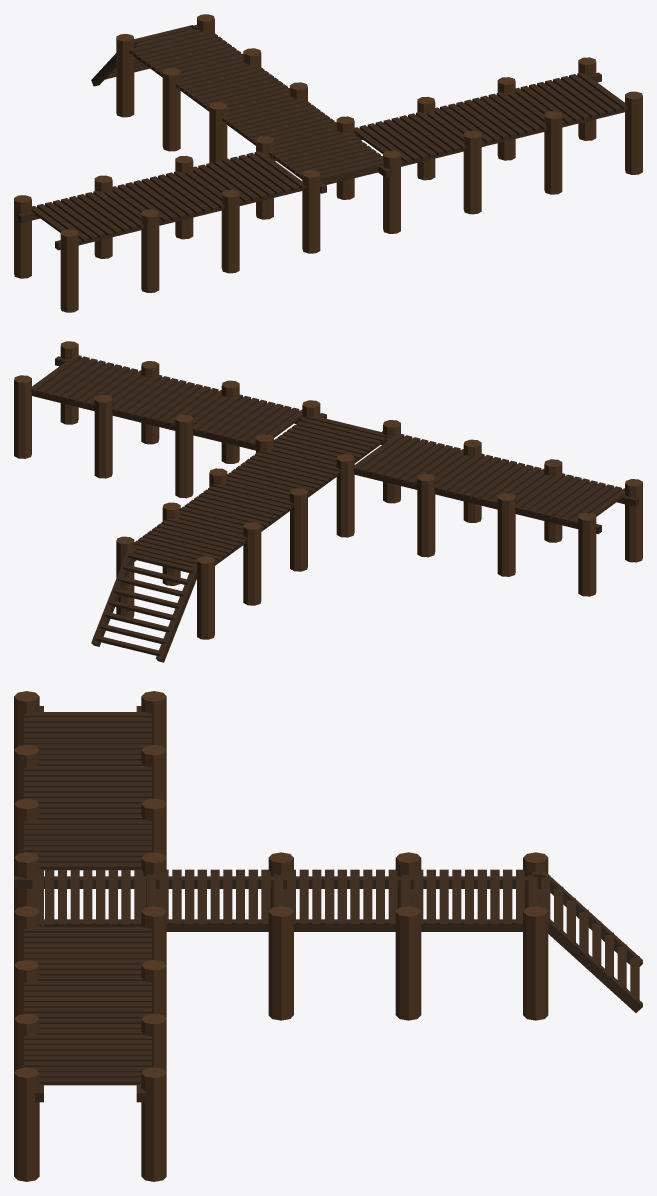
The model's file is Docks.fbx.
The picture shows the model from 3 angles, top to bottom: view 1: azimuth 30°, elevation 25°; view 2: azimuth 150°, elevation 25°; view 3: azimuth 270°, elevation 25°; orthographic projection. The views are drawn at different scales.
Visible parts, largest first — view 1: Planks, Pillars; view 2: Planks, Pillars, Planks.011, Planks.012; view 3: Planks, Pillars, Planks.012, Planks.011.
Part boxes in pixels (bbox=[...]): Planks: bbox=[18, 30, 627, 250]; Pillars: bbox=[14, 14, 642, 312]; Planks: bbox=[31, 355, 638, 579]; Pillars: bbox=[14, 341, 642, 639]; Planks.011: bbox=[155, 563, 197, 662]; Planks.012: bbox=[91, 548, 137, 646]; Planks: bbox=[14, 706, 541, 1102]; Pillars: bbox=[14, 691, 548, 1181]; Planks.012: bbox=[548, 919, 642, 1012]; Planks.011: bbox=[532, 871, 642, 966].
Size of the model in its own units: 7203 by 913 by 4944.
